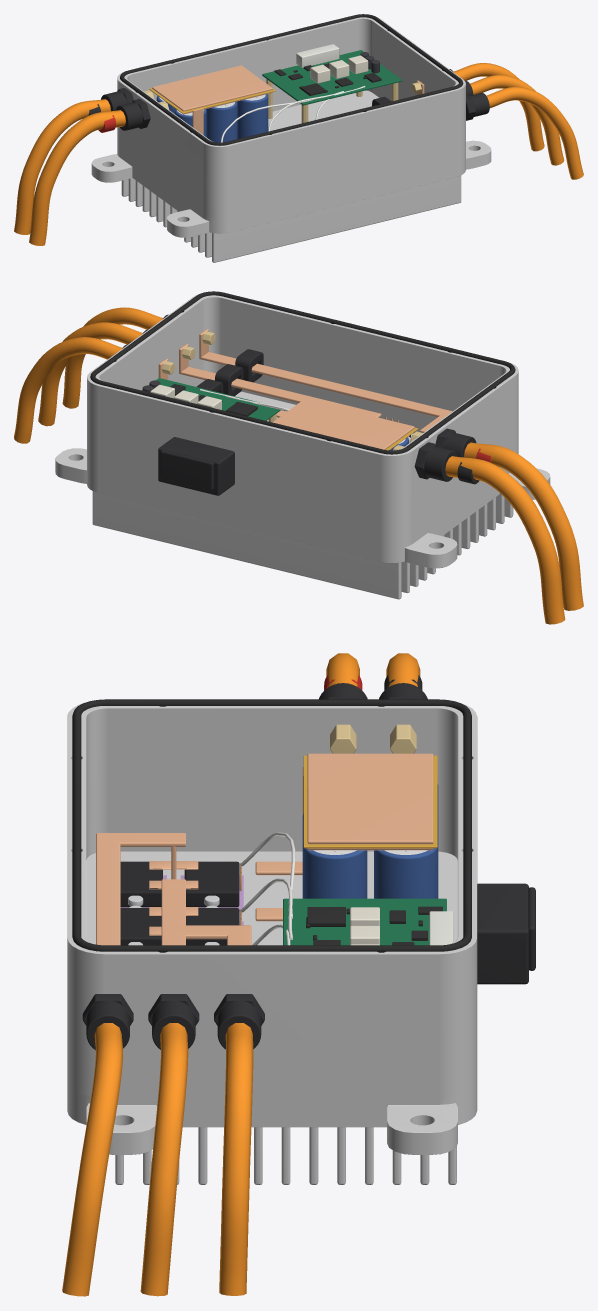
File: controller.glb
3 renders of one model, top to bottom at view 1: azimuth 30°, elevation 25°; view 2: azimuth 150°, elevation 25°; view 3: azimuth 270°, elevation 25°, orthographic. The views are drawn at different scales.
Visible parts, largest first — view 1: controller__housing, controller__power_cables, controller__heat_sink_fins, controller__lid_gasket, controller__dc_busbar_negative, controller__gate_driver_pcb, controller__dc_link_capacitors, controller__cable_glands, controller__isolation_transformers, controller__pcb_header, controller__pcb_components, controller__gate_wires (+2 smaller); view 2: controller__housing, controller__power_cables, controller__heat_sink_fins, controller__lid_gasket, controller__phase_busbars, controller__dc_busbar_negative, controller__signal_connector, controller__cable_glands, controller__current_sensors, controller__gate_driver_pcb, controller__isolation_transformers, controller__phase_terminals (+1 smaller); view 3: controller__housing, controller__power_cables, controller__dc_busbar_negative, controller__lid_gasket, controller__phase_busbars, controller__cable_glands, controller__dc_link_capacitors, controller__power_modules, controller__signal_connector, controller__heat_sink_fins, controller__gate_driver_pcb, controller__pcb_components (+7 smaller).
Part boxes in pixels (x1=…): controller__housing: x1=91, y1=16, x2=491, y2=237; controller__power_cables: x1=14, y1=63, x2=583, y2=245; controller__heat_sink_fins: x1=121, y1=175, x2=461, y2=262; controller__lid_gasket: x1=120, y1=14, x2=463, y2=145; controller__dc_busbar_negative: x1=152, y1=65, x2=272, y2=111; controller__gate_driver_pcb: x1=262, y1=50, x2=402, y2=105; controller__dc_link_capacitors: x1=156, y1=94, x2=268, y2=142; controller__cable_glands: x1=101, y1=69, x2=489, y2=130; controller__isolation_transformers: x1=310, y1=55, x2=368, y2=83; controller__pcb_header: x1=296, y1=44, x2=339, y2=67; controller__pcb_components: x1=274, y1=63, x2=381, y2=95; controller__gate_wires: x1=221, y1=86, x2=365, y2=142; controller__housing: x1=55, y1=294, x2=550, y2=568; controller__power_cables: x1=14, y1=307, x2=583, y2=624; controller__heat_sink_fins: x1=92, y1=491, x2=513, y2=599; controller__lid_gasket: x1=90, y1=291, x2=515, y2=454; controller__phase_busbars: x1=158, y1=329, x2=452, y2=432; controller__dc_busbar_negative: x1=272, y1=399, x2=414, y2=449; controller__signal_connector: x1=158, y1=437, x2=234, y2=495; controller__cable_glands: x1=122, y1=314, x2=476, y2=481; controller__current_sensors: x1=197, y1=349, x2=263, y2=396; controller__gate_driver_pcb: x1=155, y1=378, x2=280, y2=420; controller__isolation_transformers: x1=150, y1=384, x2=221, y2=409; controller__phase_terminals: x1=161, y1=331, x2=215, y2=374; controller__housing: x1=67, y1=703, x2=477, y2=1154; controller__power_cables: x1=62, y1=653, x2=420, y2=1296; controller__dc_busbar_negative: x1=307, y1=753, x2=433, y2=844; controller__lid_gasket: x1=72, y1=699, x2=471, y2=952; controller__phase_busbars: x1=96, y1=833, x2=251, y2=945; controller__cable_glands: x1=82, y1=683, x2=427, y2=1049; controller__dc_link_capacitors: x1=302, y1=784, x2=438, y2=898; controller__power_modules: x1=120, y1=861, x2=239, y2=945; controller__signal_connector: x1=477, y1=883, x2=535, y2=984; controller__heat_sink_fins: x1=115, y1=1127, x2=456, y2=1184; controller__gate_driver_pcb: x1=283, y1=898, x2=446, y2=945; controller__pcb_components: x1=306, y1=906, x2=442, y2=945.
Bounding box in the file's own units: 41.06 × 9.81 × 17.34.
